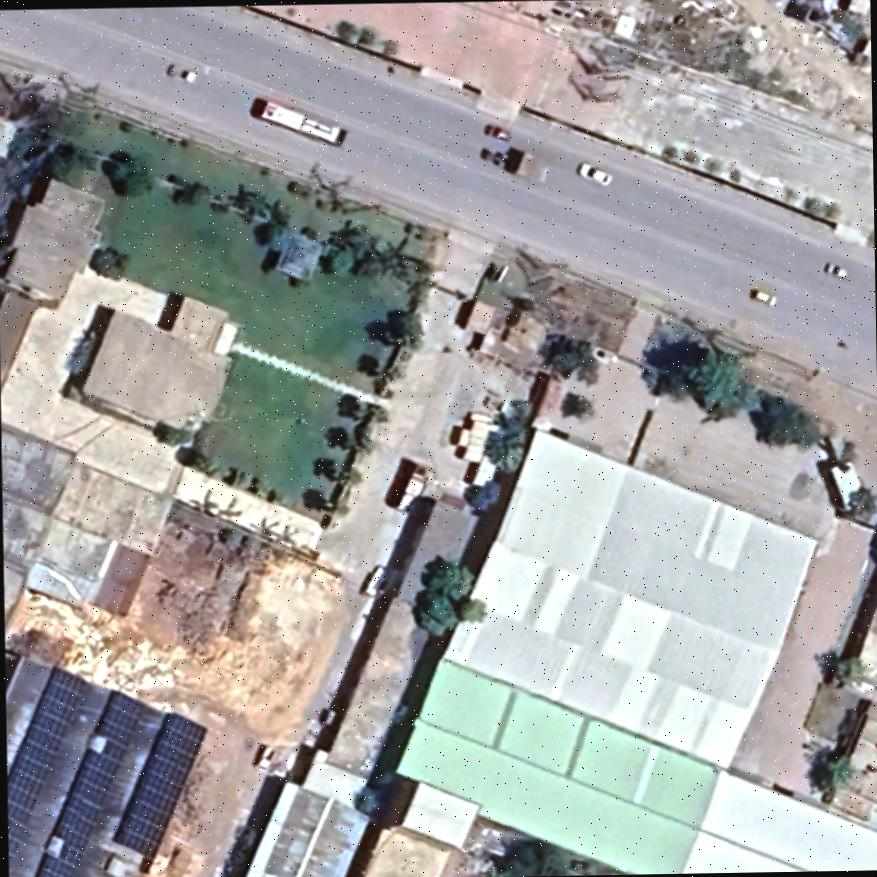Solarpanel: (30, 683, 153, 877), (6, 656, 90, 875), (107, 708, 208, 862)
